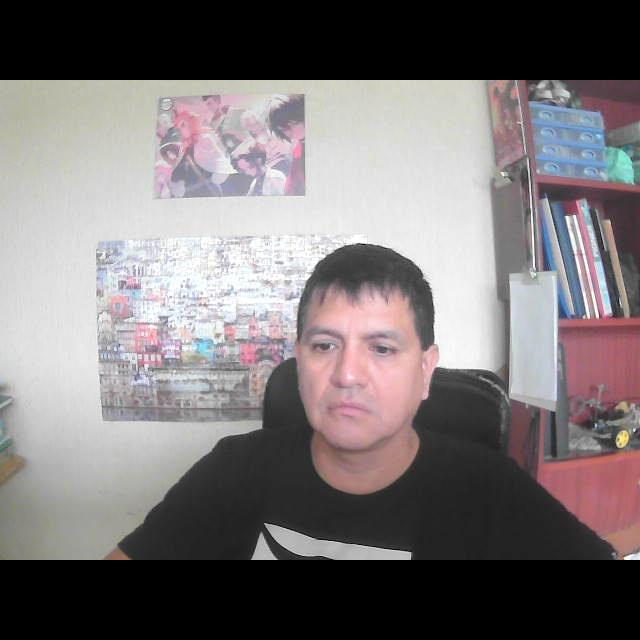cesar: (278, 227, 452, 501)
